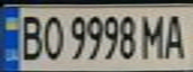8: (118, 11, 139, 61)
9: (63, 11, 87, 61), (84, 11, 106, 61), (103, 11, 121, 61)
A: (160, 10, 190, 60)
B: (15, 11, 45, 62)
M: (139, 11, 169, 60)
O: (39, 11, 66, 62)
